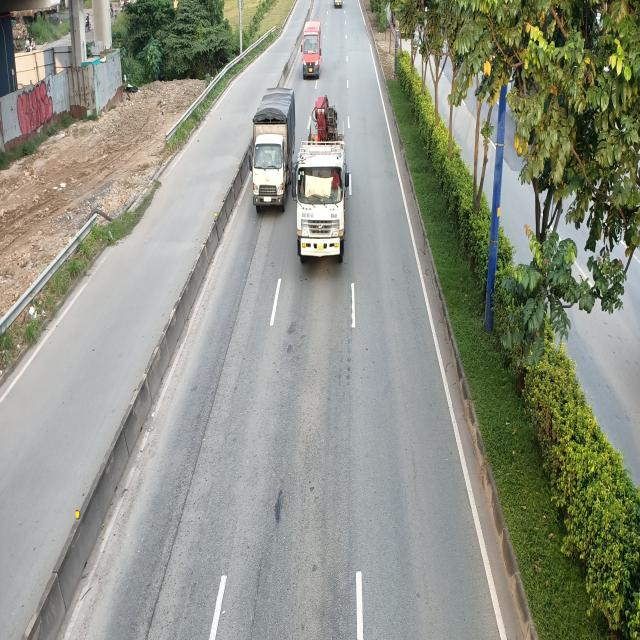truck: (290, 93, 349, 262), (250, 89, 298, 213)
van: (301, 20, 323, 78)
